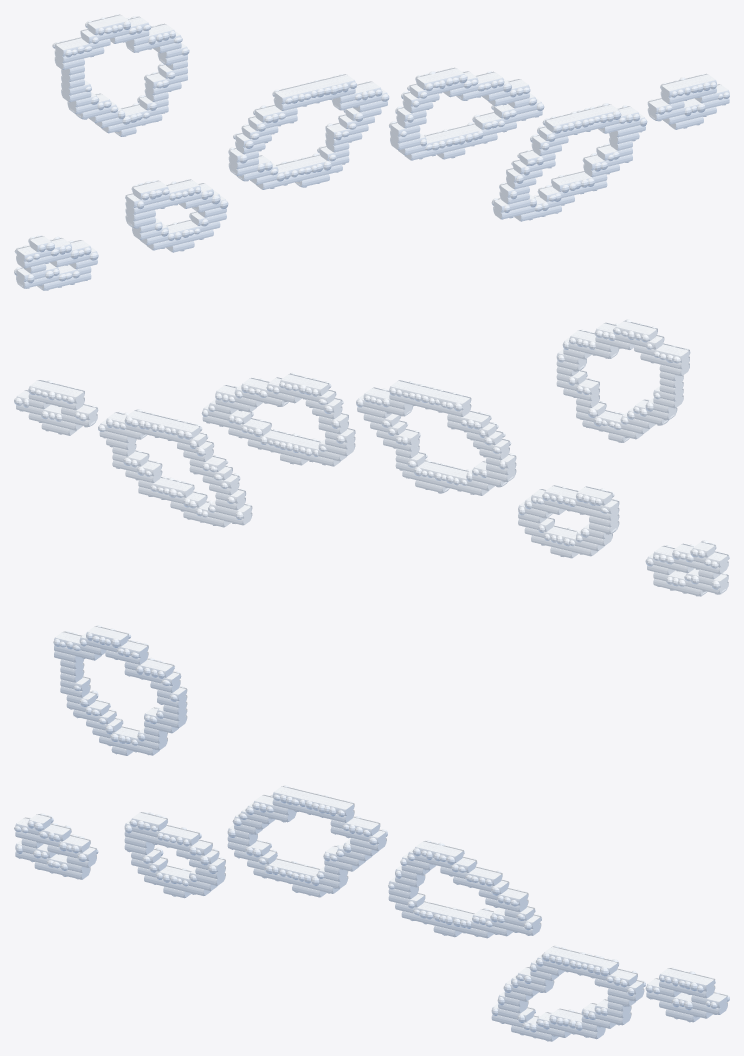
Rendered from Luna0CharsNuvens3D.glb.
3 views of the same model, one above another, from view 1: azimuth 30°, elevation 25°; view 2: azimuth 150°, elevation 25°; view 3: azimuth 330°, elevation 25° (orthographic).
Parts seen in each view (by area): view 1: Setor_3, Setor_1, Setor_10, Setor_6, Setor_2, Setor_8, Setor_11, Setor_9, Setor_5, Setor_13, Setor_7, Setor_12 (+2 smaller); view 2: Setor_3, Setor_1, Setor_10, Setor_6, Setor_2, Setor_8, Setor_11, Setor_9, Setor_5, Setor_13, Setor_7, Setor_12 (+2 smaller); view 3: Setor_3, Setor_1, Setor_10, Setor_6, Setor_2, Setor_8, Setor_11, Setor_9, Setor_5, Setor_13, Setor_12, Setor_7 (+2 smaller).
Boxes of the visible parts, left/top/right/bottom form: Setor_3: left=126, top=16, right=220, bottom=252; Setor_1: left=16, top=21, right=110, bottom=290; Setor_10: left=475, top=78, right=574, bottom=221; Setor_6: left=257, top=74, right=368, bottom=189; Setor_2: left=81, top=14, right=168, bottom=251; Setor_8: left=390, top=67, right=497, bottom=160; Setor_11: left=539, top=104, right=639, bottom=206; Setor_9: left=406, top=67, right=516, bottom=219; Setor_5: left=229, top=87, right=304, bottom=189; Setor_13: left=648, top=74, right=729, bottom=129; Setor_7: left=339, top=74, right=407, bottom=155; Setor_12: left=584, top=99, right=665, bottom=169; Setor_3: left=524, top=323, right=618, bottom=558; Setor_1: left=634, top=328, right=727, bottom=596; Setor_10: left=170, top=384, right=270, bottom=527; Setor_6: left=376, top=380, right=487, bottom=495; Setor_2: left=576, top=319, right=663, bottom=561; Setor_8: left=247, top=373, right=354, bottom=466; Setor_11: left=106, top=410, right=206, bottom=511; Setor_9: left=228, top=372, right=339, bottom=525; Setor_5: left=439, top=392, right=515, bottom=495; Setor_13: left=16, top=380, right=96, bottom=435; Setor_7: left=336, top=380, right=405, bottom=461; Setor_12: left=78, top=405, right=161, bottom=474; Setor_3: left=124, top=645, right=212, bottom=898; Setor_1: left=15, top=626, right=108, bottom=879; Setor_10: left=472, top=881, right=563, bottom=1041; Setor_6: left=247, top=786, right=357, bottom=897; Setor_2: left=73, top=625, right=166, bottom=867; Setor_8: left=388, top=840, right=486, bottom=937; Setor_11: left=537, top=946, right=636, bottom=1041; Setor_9: left=395, top=849, right=508, bottom=1015; Setor_5: left=227, top=785, right=302, bottom=884; Setor_13: left=646, top=967, right=718, bottom=1022; Setor_12: left=581, top=959, right=655, bottom=1028; Setor_7: left=330, top=803, right=401, bottom=903.
Bounding box in the file's own units: 114 × 46.26 × 4.12.
Materials: 1 (1 with a texture image).
